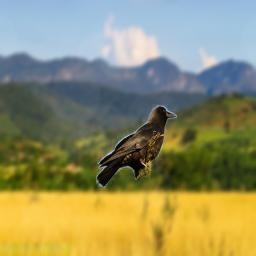Crow: (96, 103, 177, 190)
